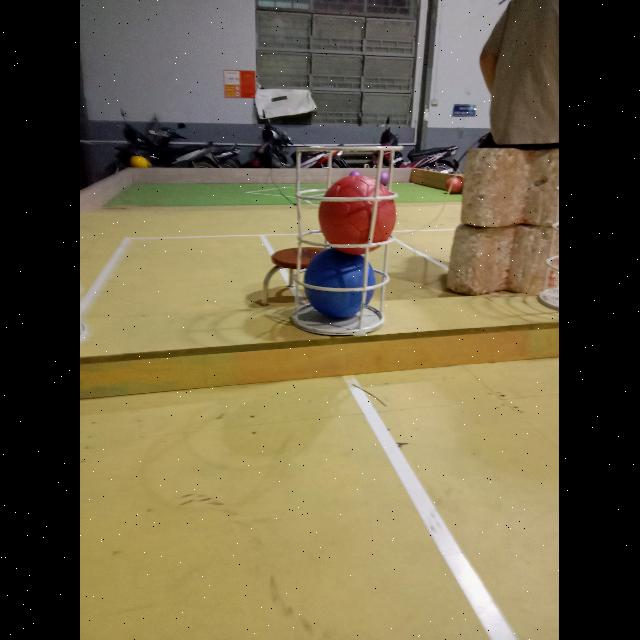B: (306, 247, 376, 319)
R: (319, 174, 396, 253)
S: (285, 137, 409, 340), (538, 158, 560, 314), (80, 228, 92, 352)
